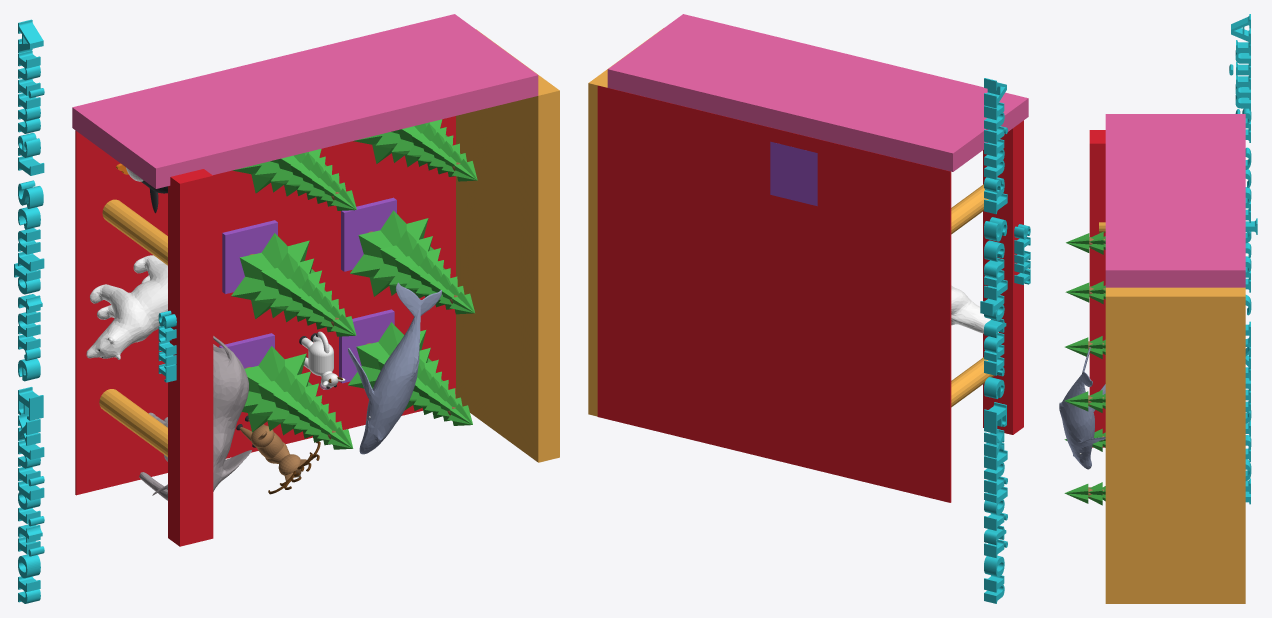
File: tinker.obj
3 renders of one model, left to right at view 1: azimuth 30°, elevation 25°; view 2: azimuth 150°, elevation 25°; view 3: azimuth 270°, elevation 25°, orthographic. The views are drawn at different scales.
Parts seen in each view (by area): view 1: group_0_15277357, group_0_15885995, group_0_16758860, group_0_4634441, group_0_2937825, group_0_10770897, group_0_16448250, group_0_9806015, group_0_11051172, group_0_11107152; view 2: group_0_15277357, group_0_15885995, group_0_2937825, group_0_16758860, group_0_10770897, group_0_16448250; view 3: group_0_16758860, group_0_15885995, group_0_15277357, group_0_2937825, group_0_4634441, group_0_9806015.
Boxes of the visible parts, x1=… form: group_0_15277357: x1=75, y1=116, x2=455, y2=546; group_0_15885995: x1=72, y1=14, x2=538, y2=188; group_0_16758860: x1=99, y1=29, x2=559, y2=462; group_0_4634441: x1=231, y1=119, x2=477, y2=449; group_0_2937825: x1=14, y1=19, x2=176, y2=603; group_0_10770897: x1=219, y1=197, x2=396, y2=383; group_0_16448250: x1=86, y1=167, x2=345, y2=387; group_0_9806015: x1=348, y1=282, x2=441, y2=454; group_0_11051172: x1=139, y1=336, x2=251, y2=500; group_0_11107152: x1=239, y1=162, x2=460, y2=480; group_0_15277357: x1=597, y1=85, x2=1023, y2=502; group_0_15885995: x1=607, y1=14, x2=1028, y2=171; group_0_2937825: x1=980, y1=78, x2=1030, y2=603; group_0_16758860: x1=588, y1=28, x2=994, y2=416; group_0_10770897: x1=770, y1=141, x2=817, y2=206; group_0_16448250: x1=951, y1=285, x2=998, y2=333; group_0_16758860: x1=1099, y1=222, x2=1245, y2=603; group_0_15885995: x1=1105, y1=114, x2=1245, y2=287; group_0_15277357: x1=1089, y1=130, x2=1105, y2=447; group_0_2937825: x1=1229, y1=14, x2=1257, y2=504; group_0_4634441: x1=1064, y1=231, x2=1105, y2=505; group_0_9806015: x1=1059, y1=347, x2=1105, y2=469.
Bounding box in the file's own units: 437 × 531 × 197.
